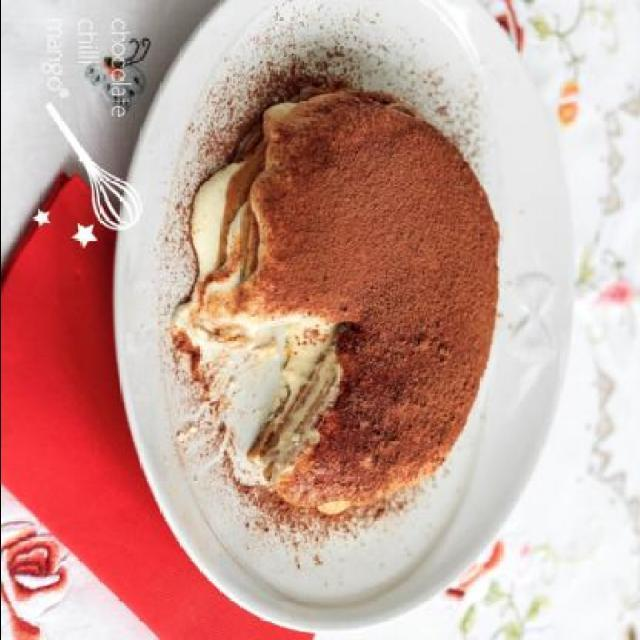Tiramisu: (177, 93, 497, 505)
